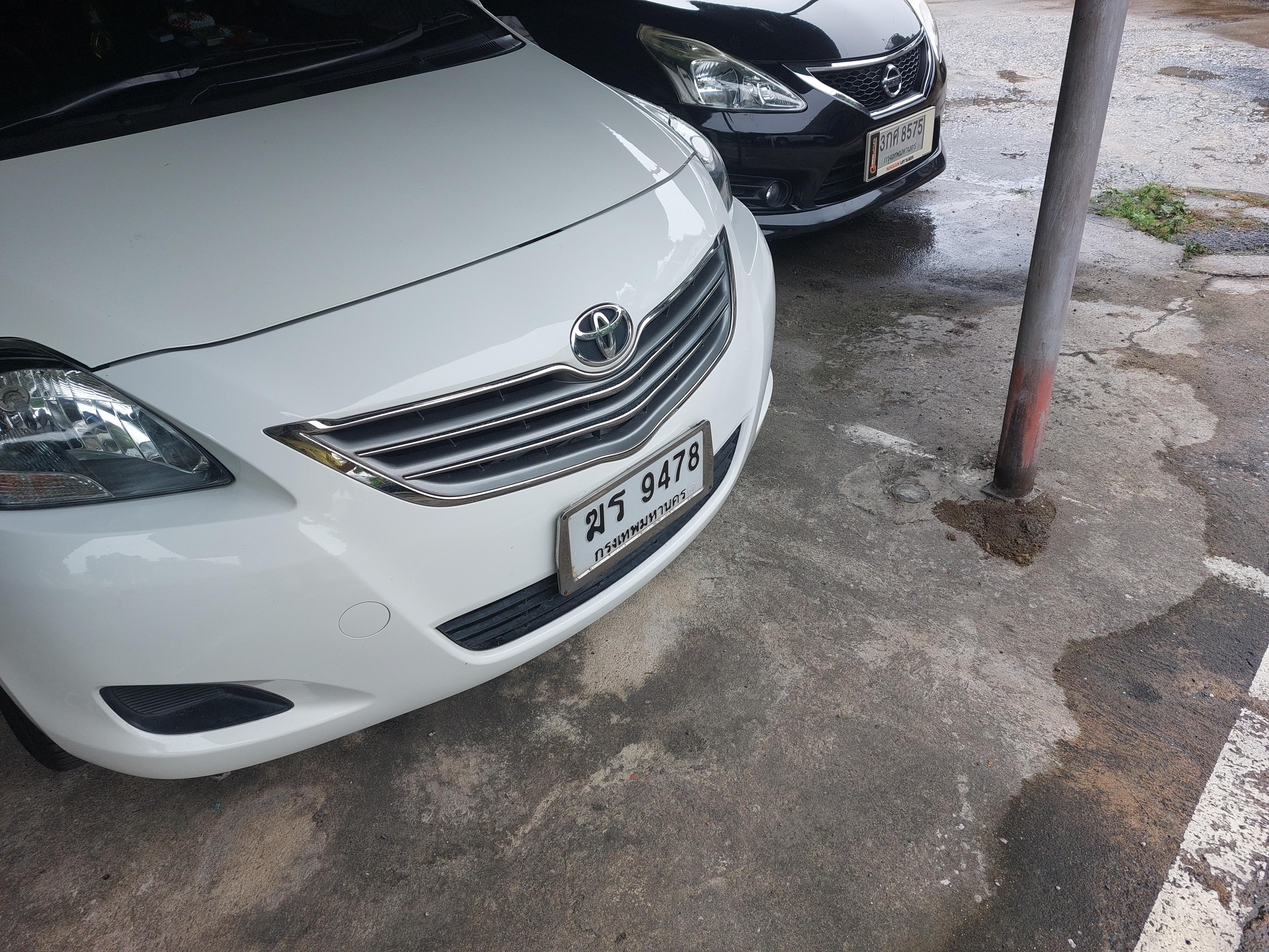license-plate: (551, 417, 717, 602)
